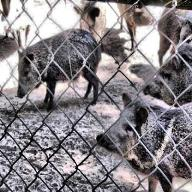boar: (95, 85, 189, 192), (13, 20, 102, 112), (115, 0, 156, 51)
